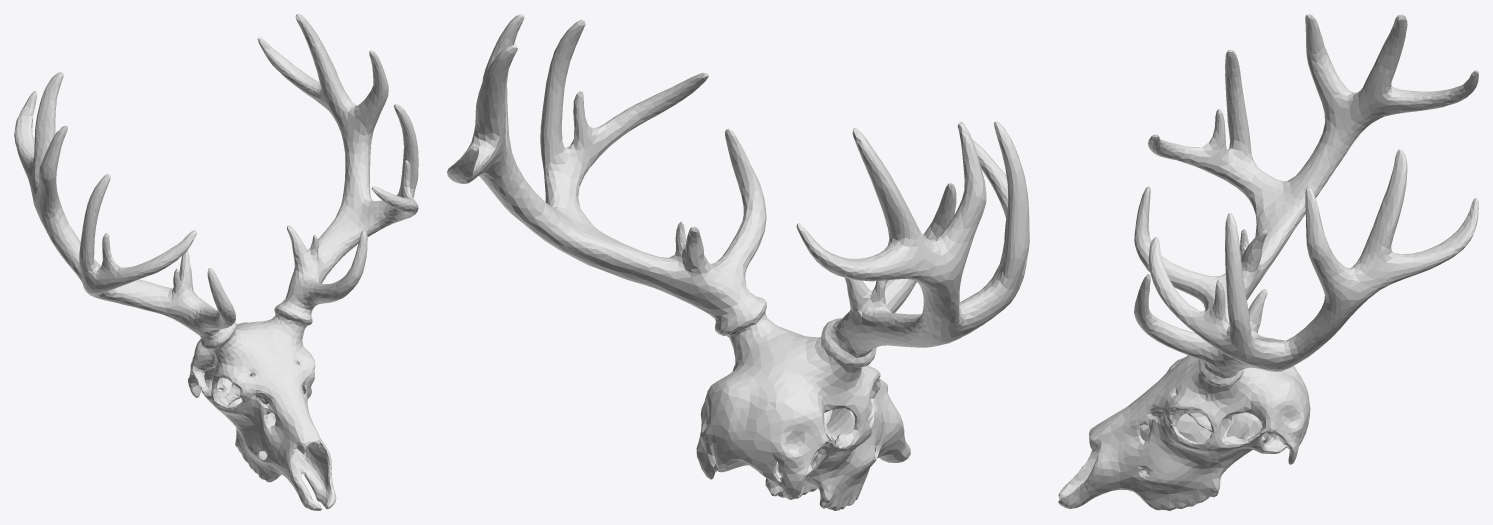
The model's file is animal_skull02.glb.
3 views of the same model, side by side, from view 1: azimuth 30°, elevation 25°; view 2: azimuth 150°, elevation 25°; view 3: azimuth 270°, elevation 25° (orthographic). The views are drawn at different scales.
Visible parts, largest first — view 1: Low; view 2: Low; view 3: Low.
Boxes of the visible parts, x1,y1,x2,y2 form: Low: [14, 14, 418, 510]; Low: [447, 14, 1029, 510]; Low: [1058, 14, 1478, 510].
Size of the model in its own units: 1.96 by 1.96 by 1.77.
1 material, 1 textured.
